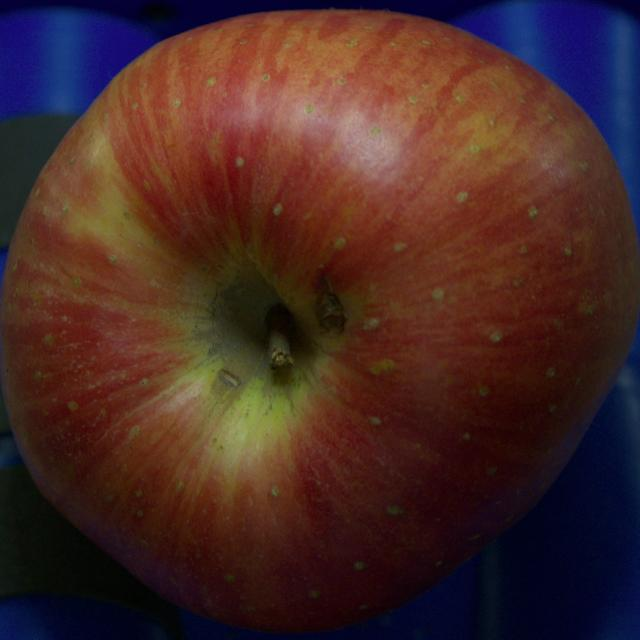apple: (0, 10, 639, 631)
scratch: (316, 282, 346, 333), (218, 369, 240, 387)
